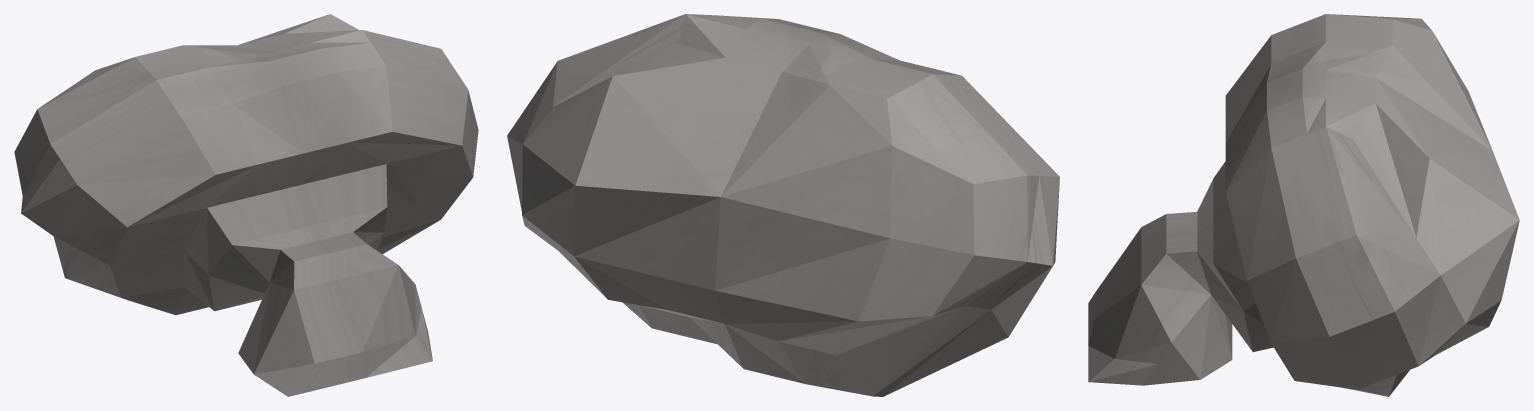
The model's file is rock2.fbx.
3 renders of one model, left to right at view 1: azimuth 30°, elevation 25°; view 2: azimuth 150°, elevation 25°; view 3: azimuth 270°, elevation 25°, orthographic. The views are drawn at different scales.
Parts seen in each view (by area): view 1: pCube1; view 2: pCube1; view 3: pCube1.
Boxes of the visible parts, x1,y1,x2,y2 form: pCube1: (14,14,478,396); pCube1: (507,14,1059,396); pCube1: (1088,14,1519,396).
Size of the model in its own units: 2.33 by 1.25 by 1.76.
